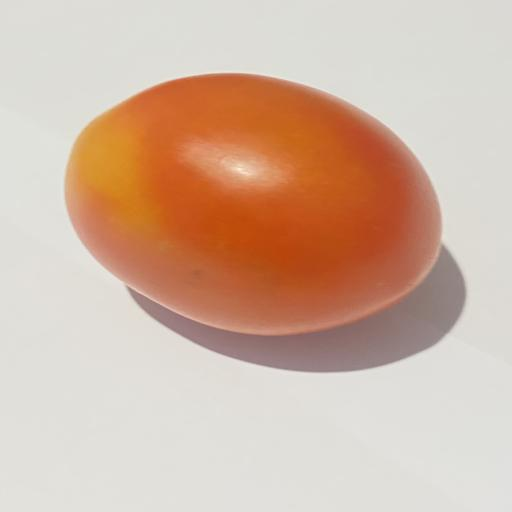ripe: (65, 74, 442, 335)
